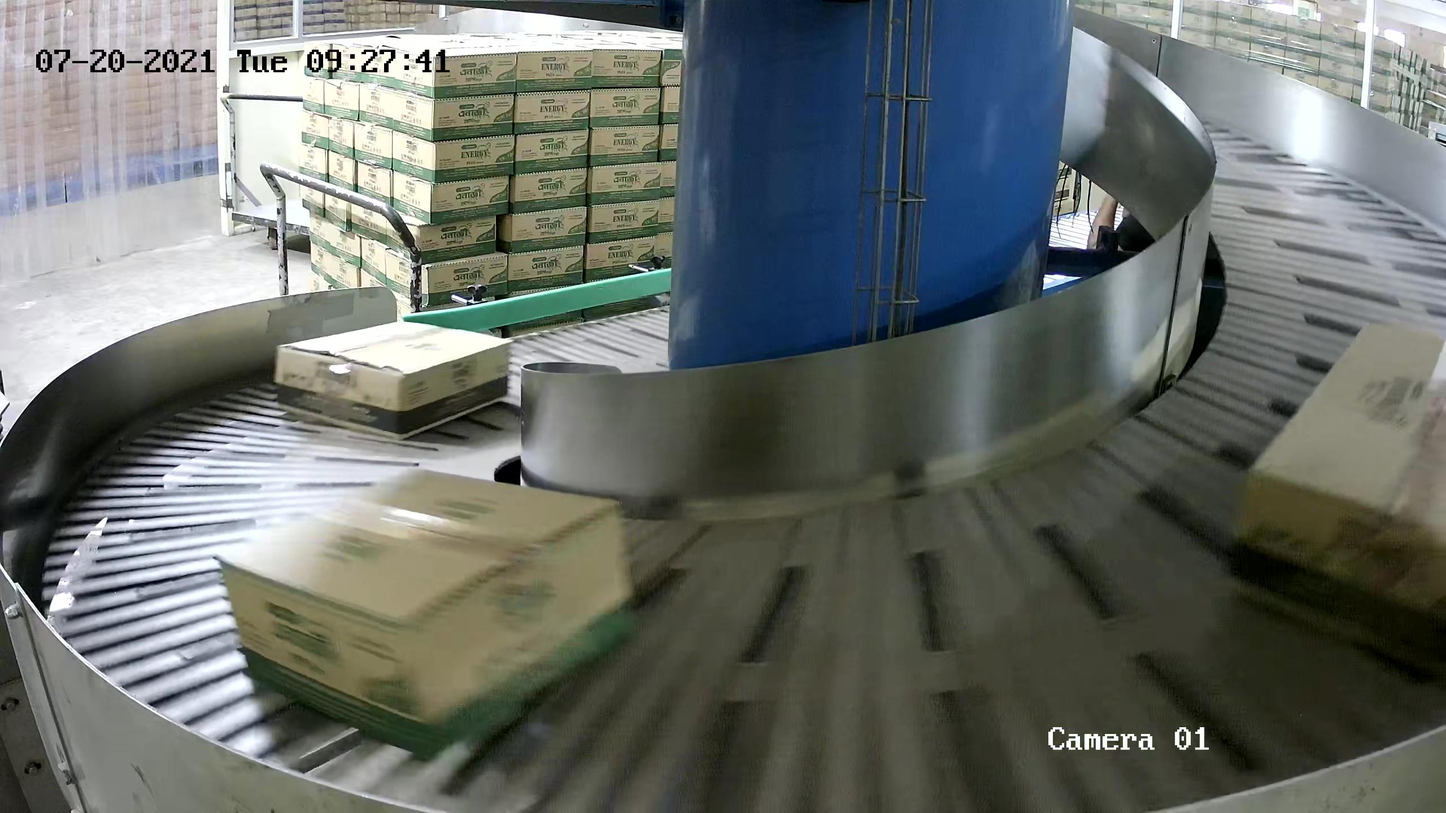Box: (215, 462, 639, 765), (1214, 314, 1446, 697), (272, 318, 512, 442)
